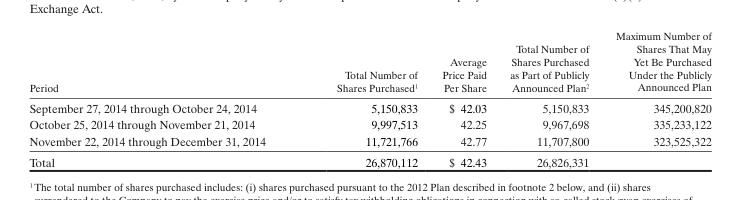table: (28, 28, 710, 168)
table column: (28, 28, 300, 168), (300, 28, 429, 168), (601, 28, 710, 168), (497, 28, 601, 168), (429, 28, 497, 168)
table column header: (28, 28, 710, 97)
table row: (28, 28, 710, 97), (28, 132, 710, 151), (28, 97, 710, 115), (28, 115, 710, 132), (28, 151, 710, 168)
